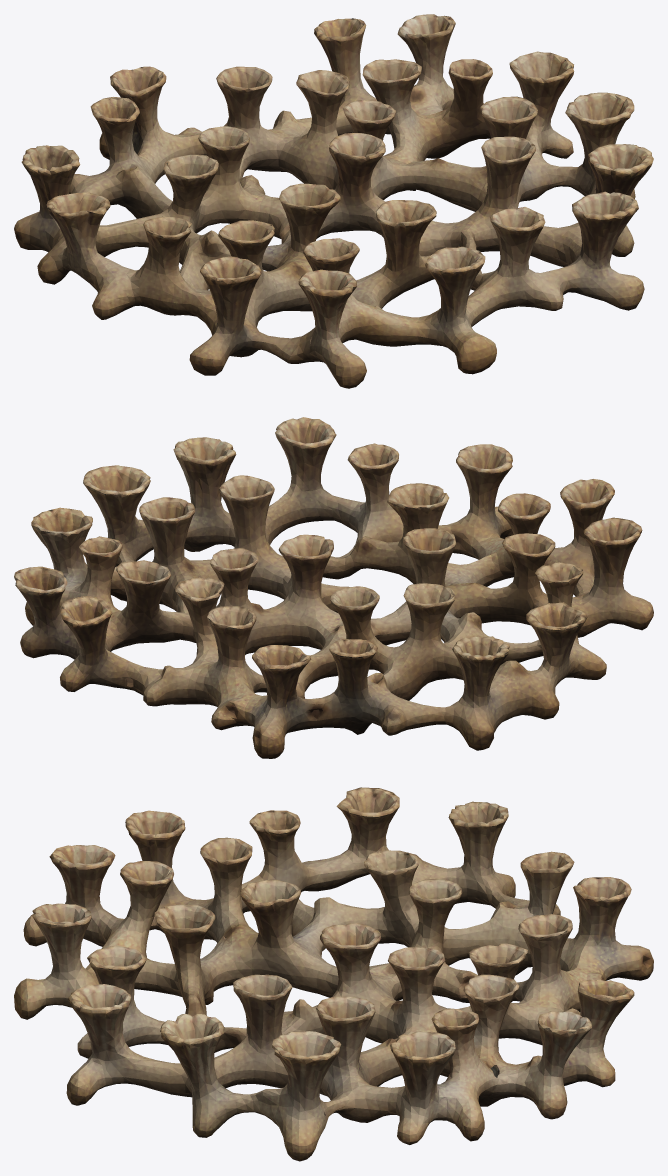
3 renders of one model, top to bottom at view 1: azimuth 30°, elevation 25°; view 2: azimuth 150°, elevation 25°; view 3: azimuth 270°, elevation 25°, orthographic. The views are drawn at different scales.
Parts seen in each view (by area): view 1: world; view 2: world; view 3: world.
Part boxes in pixels (box(x1,y1,x2,y2)): world: box(14, 14, 653, 388); world: box(14, 417, 653, 758); world: box(14, 787, 653, 1161).
Size of the model in its own units: 0.15 by 0.0294 by 0.149.
1 material, 1 textured.
